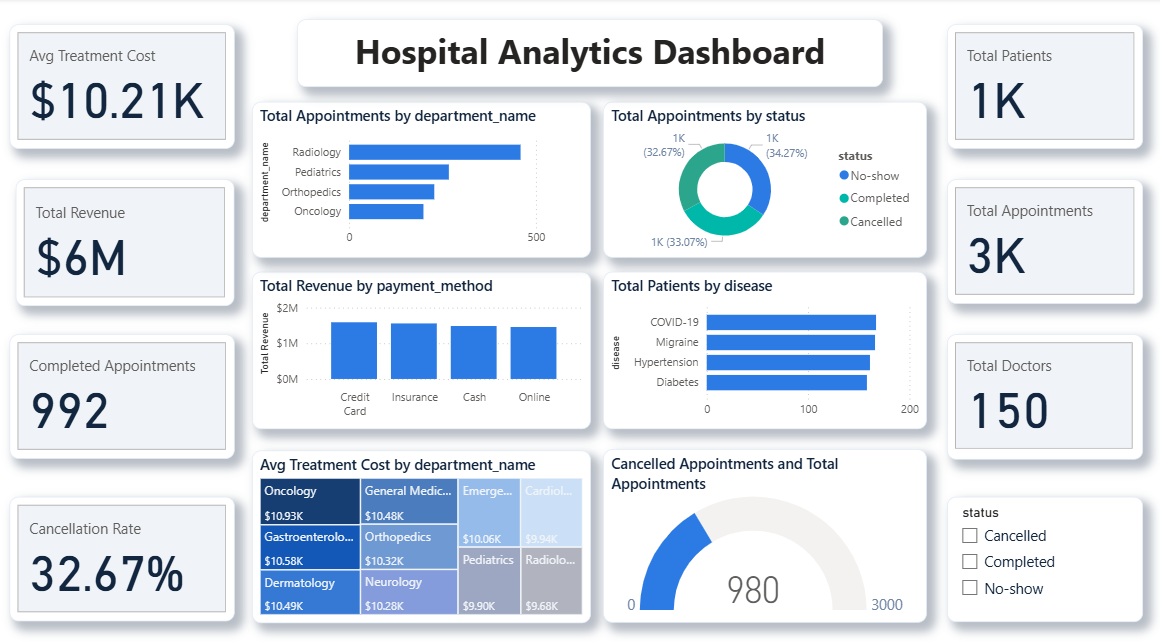

Layout of this report page (visuals, bound fields, positions):
{"tool":"powerbi","page":{"name":"Page 1","canvas":[1280,720],"ordinal":0},"visuals":[{"type":"cardVisual","fields":{"Data":["Measures_table.Avg Treatment Cost"]},"box":[13.5,29.3,247,137],"z":0},{"type":"cardVisual","fields":{"Data":["Measures_table.Total Appointments"]},"box":[1043.1,199.3,215.2,137],"z":1000},{"type":"cardVisual","fields":{"Data":["Measures_table.Total Doctors"]},"box":[1042.9,369.1,215.4,137.2],"z":2000},{"type":"cardVisual","fields":{"Data":["Measures_table.Total Patients"]},"box":[1043.1,29.3,215.2,137],"z":3000},{"type":"cardVisual","fields":{"Data":["Measures_table.Total Revenue"]},"box":[20.8,199.3,239.7,139.4],"z":4000},{"type":"clusteredColumnChart","fields":{"Category":["billing.payment_method"],"Y":["Measures_table.Total Revenue"]},"box":[279.9,300.5,371.9,172.9],"z":6000},{"type":"clusteredBarChart","fields":{"Category":["departments.department_name"],"Y":["Measures_table.Total Appointments"]},"box":[279.9,113.9,371.9,171.5],"z":7000},{"type":"donutChart","fields":{"Category":["appointments.status"],"Y":["Measures_table.Total Appointments"]},"box":[665.5,113.9,355.4,171.5],"z":8000},{"type":"barChart","fields":{"Category":["patients.disease"],"Y":["Measures_table.Total Patients"]},"box":[665.5,300.5,355.4,172.9],"z":9000},{"type":"cardVisual","fields":{"Data":["Measures_table.Completed Appointments"]},"box":[13.5,369.3,247,137],"z":10000},{"type":"cardVisual","fields":{"Data":["Measures_table.Cancellation Rate"]},"box":[13.5,547.8,247,137],"z":11000},{"type":"treemap","fields":{"Group":["departments.department_name"],"Values":["Measures_table.Avg Treatment Cost"]},"box":[279.9,496.7,371.9,189.4],"z":12000},{"type":"textbox","box":[329.3,23.3,643.6,74.1],"z":13000},{"type":"slicer","fields":{"Values":["appointments.status"]},"box":[1042.9,547.5,215.4,137.2],"z":14000},{"type":"gauge","fields":{"Y":["Measures_table.Cancelled Appointments"],"MaxValue":["Measures_table.Total Appointments"]},"box":[665.5,495.4,355.4,190.7],"z":14001}]}

Visuals, with their boxes in screenshot pixels (x1, y1, x2, y2), scaled from the page's 1280x720 canvas onto the 1160x642 screenshot:
cardVisual - Measures_table.Avg Treatment Cost: region(12, 26, 236, 148)
cardVisual - Measures_table.Total Appointments: region(945, 178, 1140, 300)
cardVisual - Measures_table.Total Doctors: region(945, 329, 1140, 451)
cardVisual - Measures_table.Total Patients: region(945, 26, 1140, 148)
cardVisual - Measures_table.Total Revenue: region(19, 178, 236, 302)
clusteredColumnChart - billing.payment_method x Measures_table.Total Revenue: region(254, 268, 591, 422)
clusteredBarChart - departments.department_name x Measures_table.Total Appointments: region(254, 102, 591, 254)
donutChart - appointments.status x Measures_table.Total Appointments: region(603, 102, 925, 254)
barChart - patients.disease x Measures_table.Total Patients: region(603, 268, 925, 422)
cardVisual - Measures_table.Completed Appointments: region(12, 329, 236, 451)
cardVisual - Measures_table.Cancellation Rate: region(12, 488, 236, 611)
treemap - departments.department_name x Measures_table.Avg Treatment Cost: region(254, 443, 591, 612)
textbox: region(298, 21, 882, 87)
slicer - appointments.status: region(945, 488, 1140, 611)
gauge - Measures_table.Cancelled Appointments x Measures_table.Total Appointments: region(603, 442, 925, 612)
